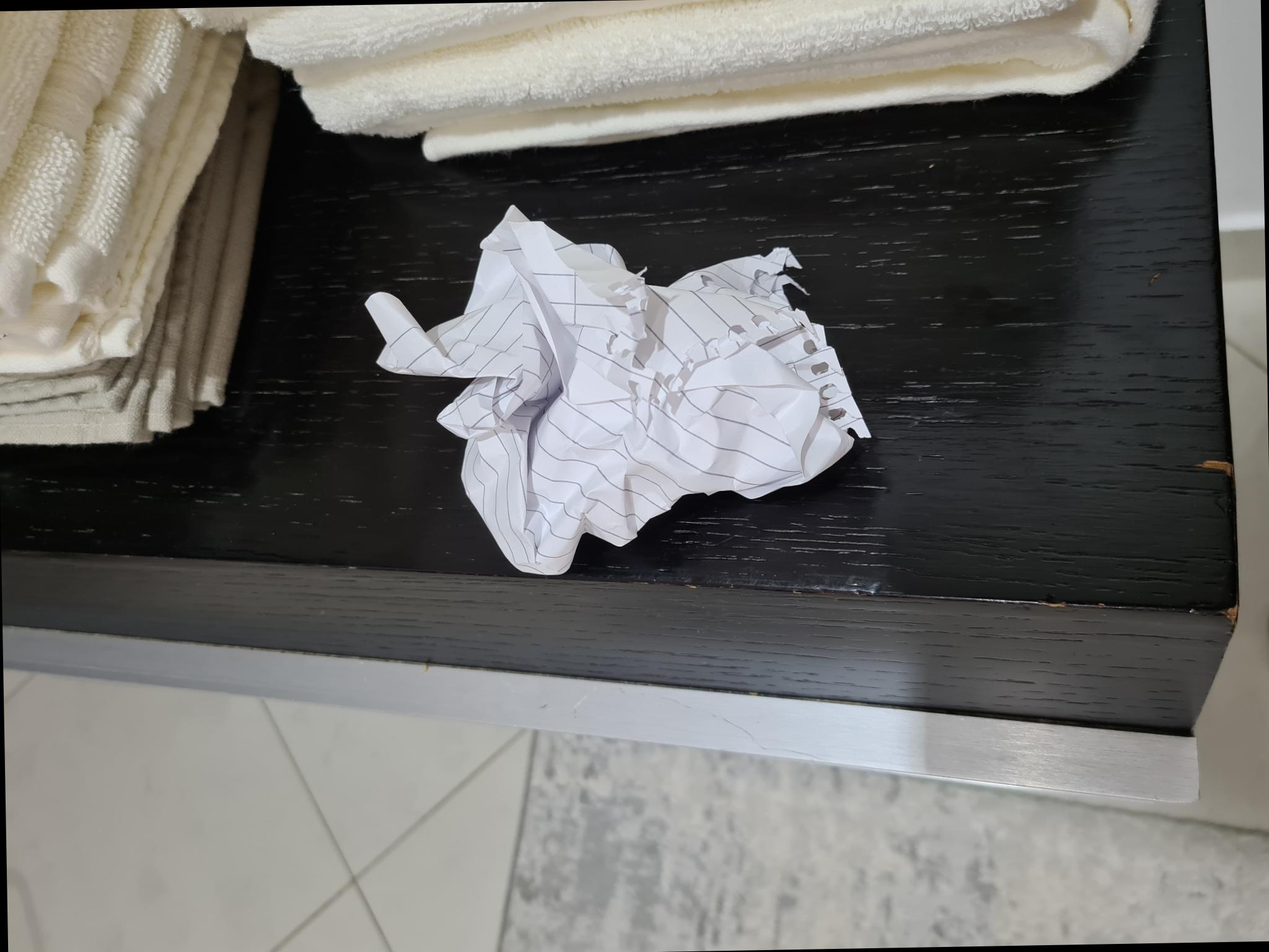Kertas: (392, 371, 738, 823)
